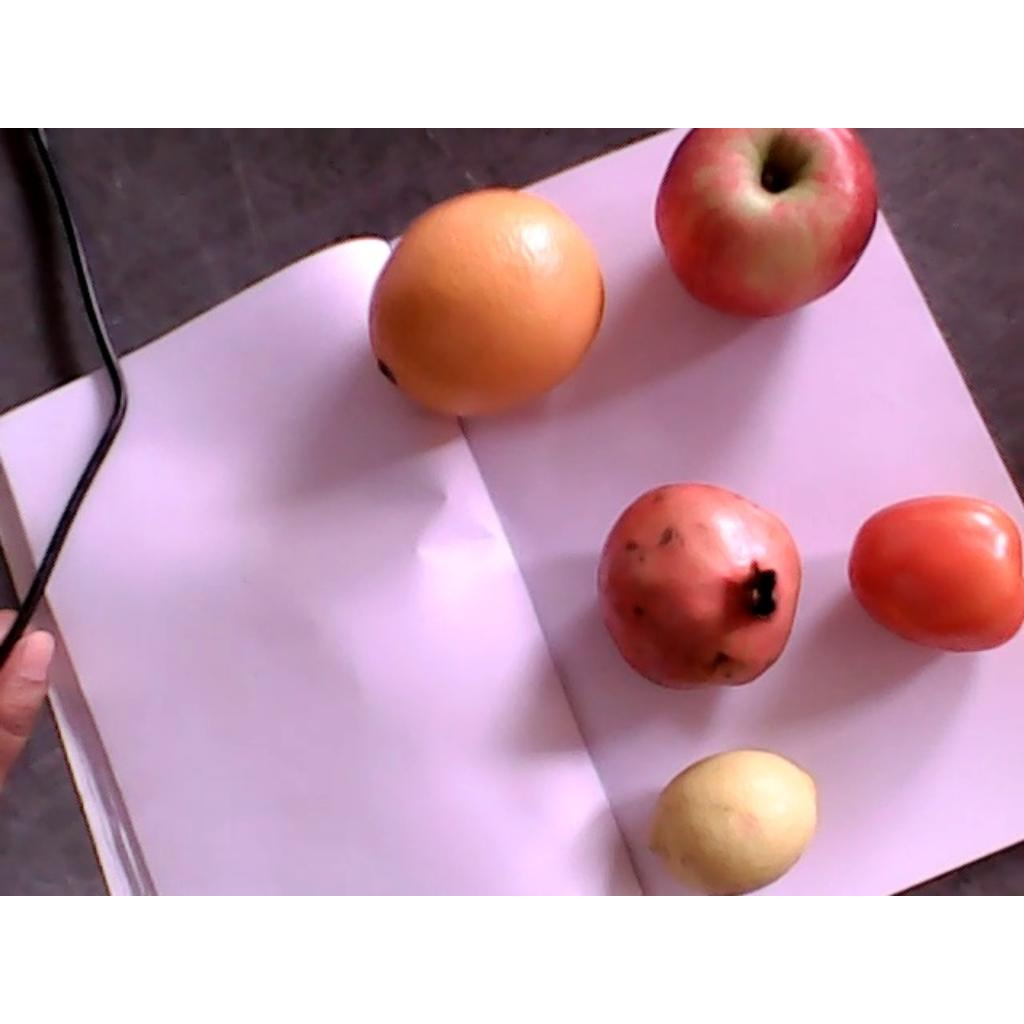apple: (655, 128, 882, 319)
lemon: (650, 747, 821, 894)
orange: (368, 188, 602, 419)
pomegranate: (596, 481, 801, 690)
tomato: (850, 496, 1022, 651)
